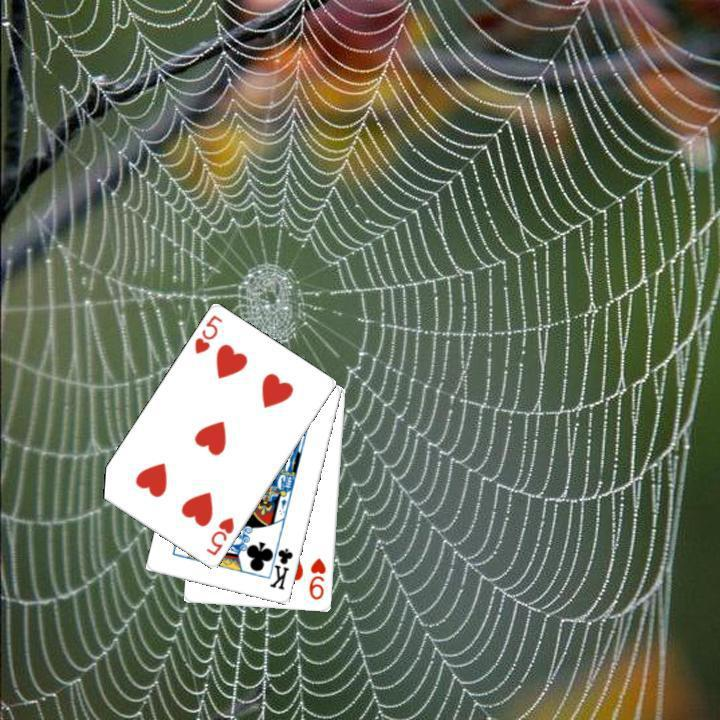5: (201, 513, 236, 558), (190, 311, 224, 357)
9: (305, 554, 328, 602)
K: (263, 537, 295, 592)
